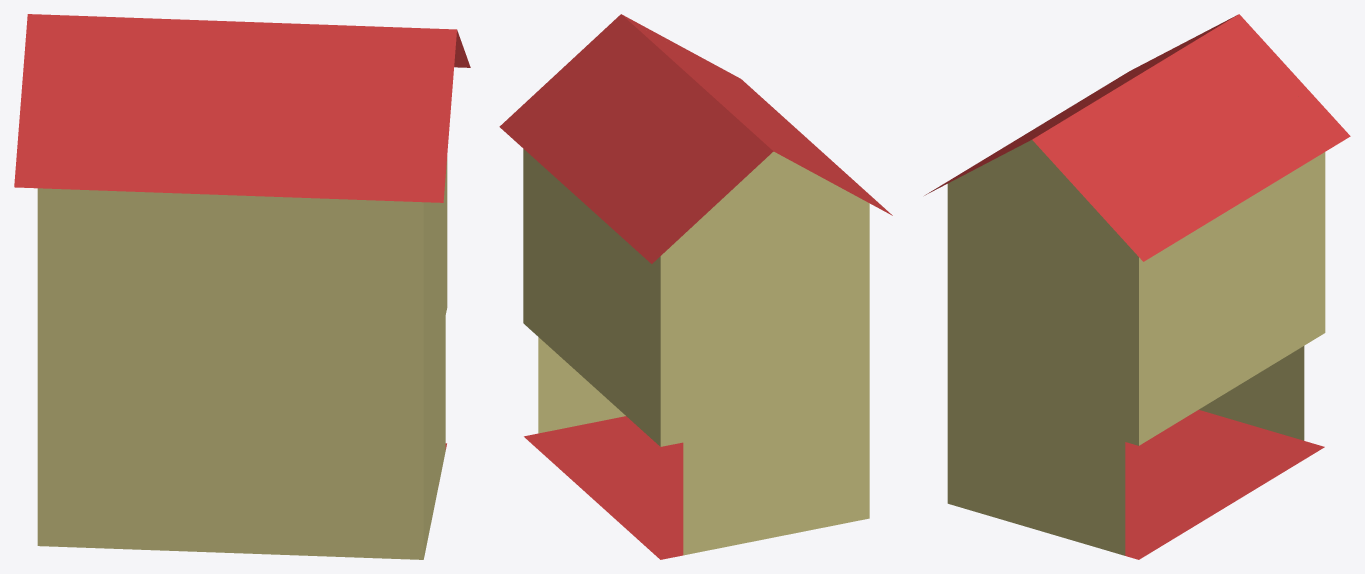
3 views of the same model, side by side, from view 1: azimuth 30°, elevation 25°; view 2: azimuth 150°, elevation 25°; view 3: azimuth 270°, elevation 25° (orthographic). The views are drawn at different scales.
Parts seen in each view (by area): view 1: group_5, group_3, group_4; view 2: group_5, group_3, group_6, group_4; view 3: group_5, group_3, group_6, group_4.
Part boxes in pixels (x1,y1,x2,y2): group_5: [37, 157, 447, 559]; group_3: [14, 14, 456, 202]; group_4: [14, 14, 470, 202]; group_5: [523, 149, 869, 555]; group_3: [499, 14, 868, 263]; group_6: [524, 416, 683, 559]; group_4: [615, 14, 892, 263]; group_5: [947, 140, 1325, 555]; group_3: [929, 14, 1349, 261]; group_6: [1125, 409, 1324, 559]; group_4: [924, 15, 1350, 195].
Size of the model in its own units: 18.47 by 17.53 by 17.98.
